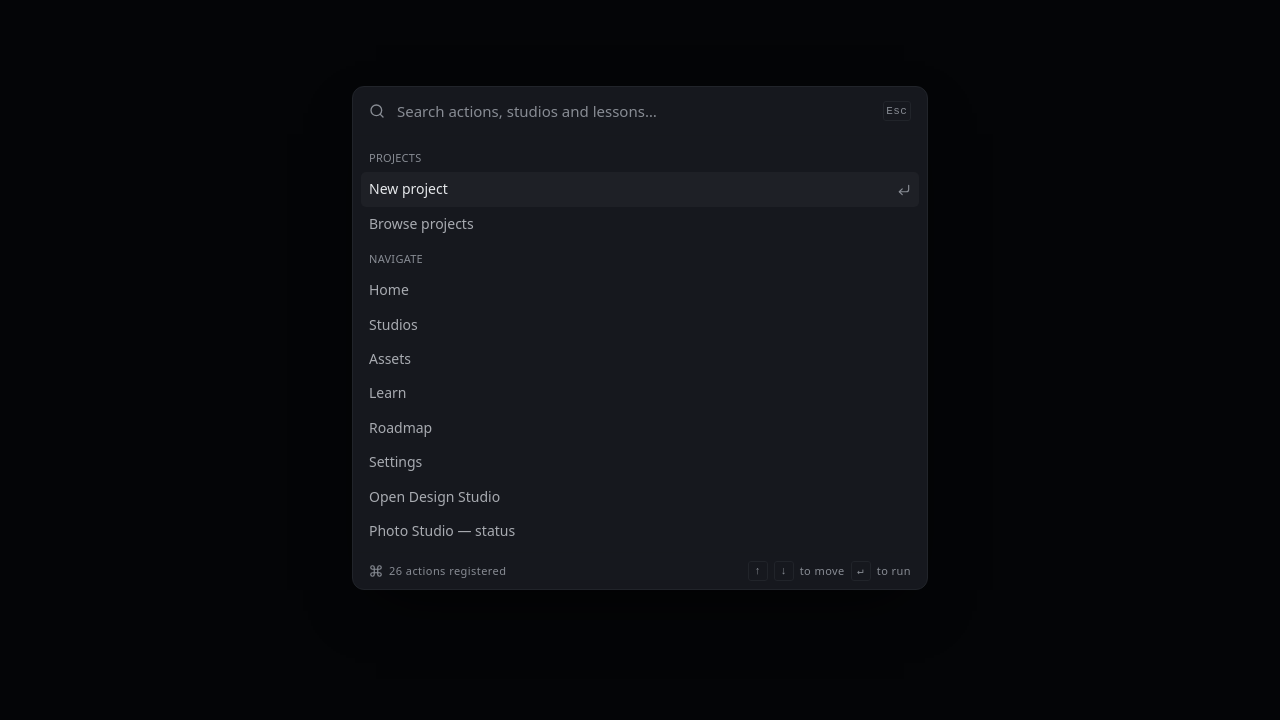
CommandPalette › only offers the contextual help command inside a workspace
Expected: the button "explain the current tool" is not shown
Type "explain" into the field named "Search commands" at (634, 111), box left=397, top=99, right=870, bottom=123
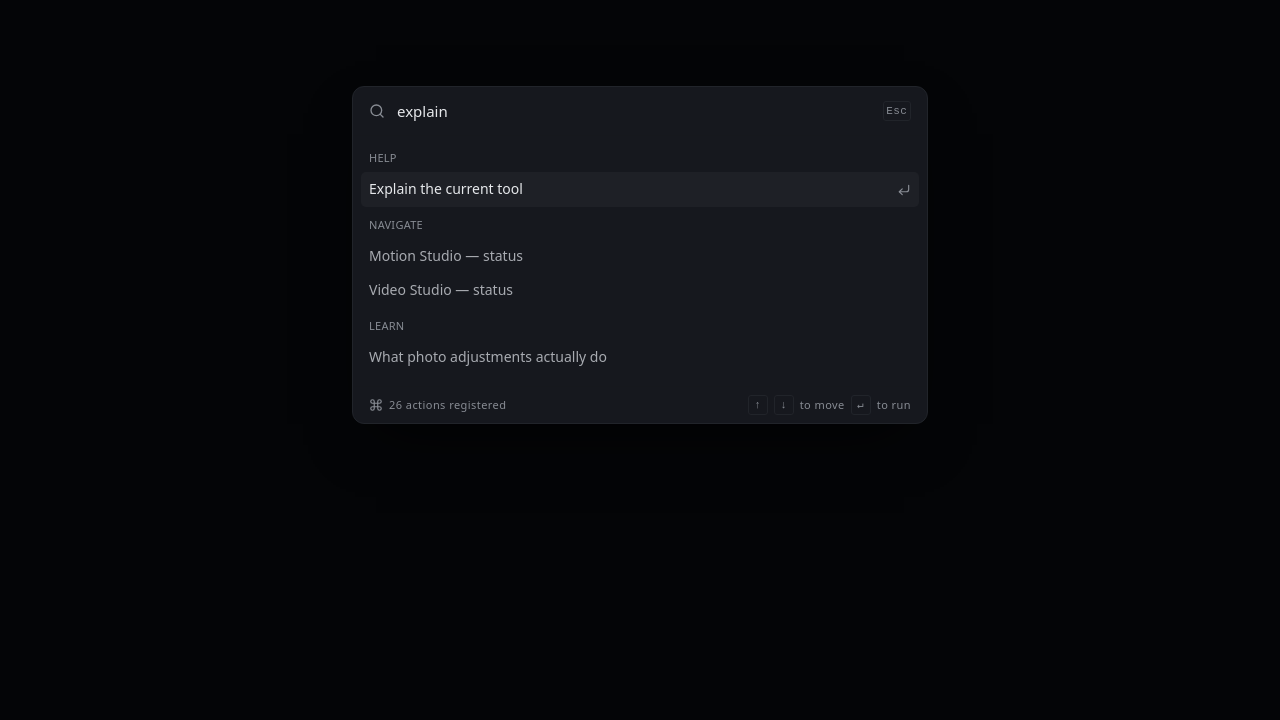
Now the button "Explain the current tool" is shown, box left=361, top=172, right=919, bottom=207
